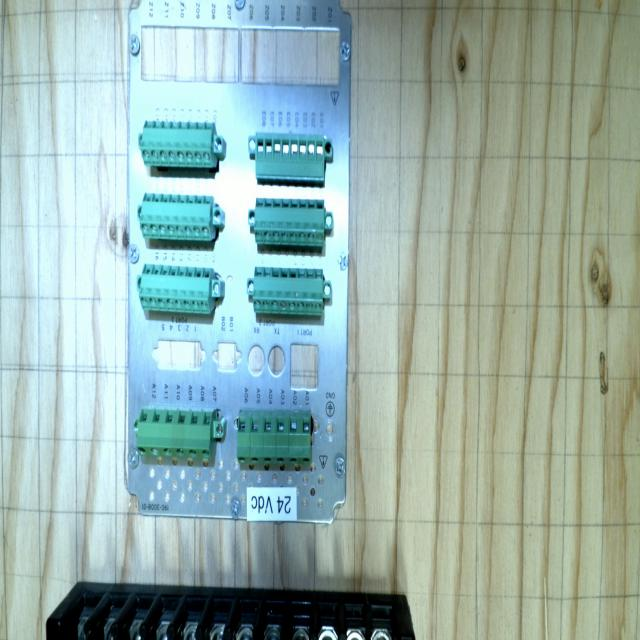Terminal_1: (136, 407, 214, 460), (237, 413, 311, 464)
Terminal_2: (138, 264, 213, 314), (253, 196, 326, 246), (139, 193, 213, 241), (252, 266, 324, 315), (140, 121, 214, 167)
